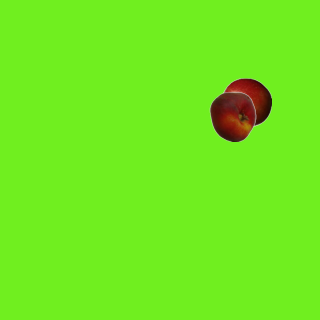Apple Braeburn: (221, 77, 271, 127)
Nectarine Flat: (207, 91, 257, 141)
